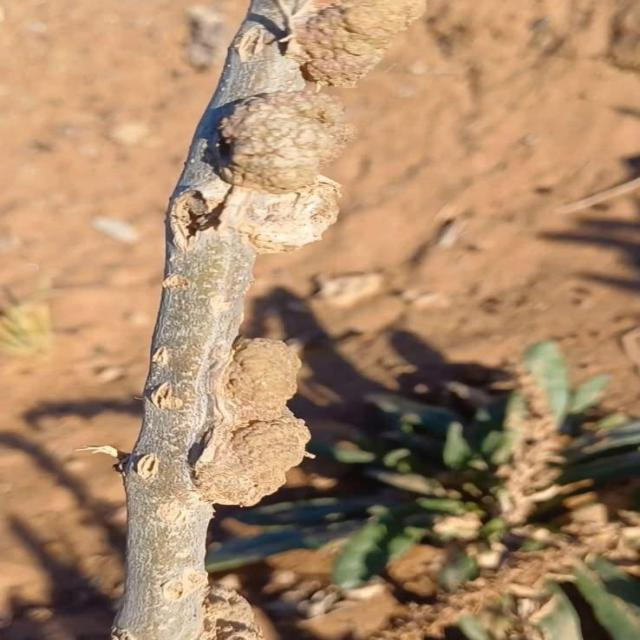Tuberculosis: (203, 90, 353, 254), (203, 338, 314, 506), (293, 0, 426, 89)
